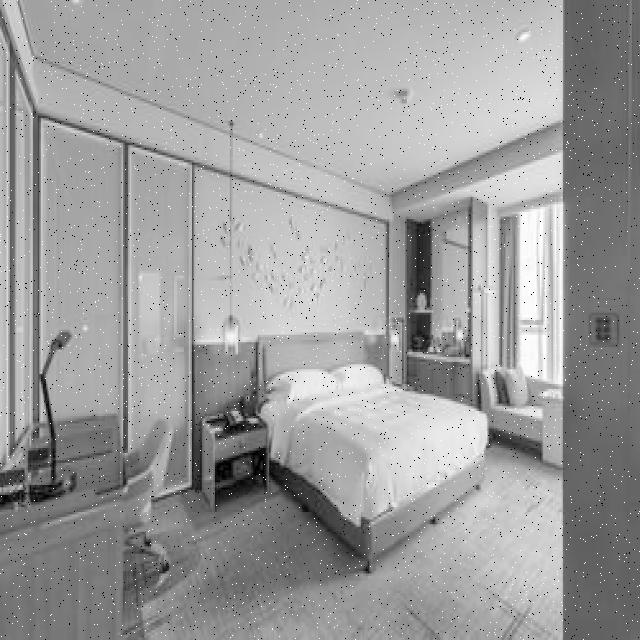bed: (258, 346, 489, 533)
